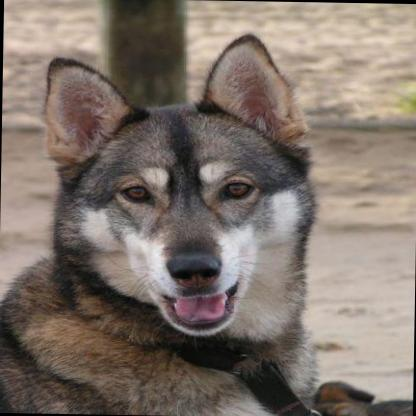Siberian_husky: (0, 25, 321, 415)
